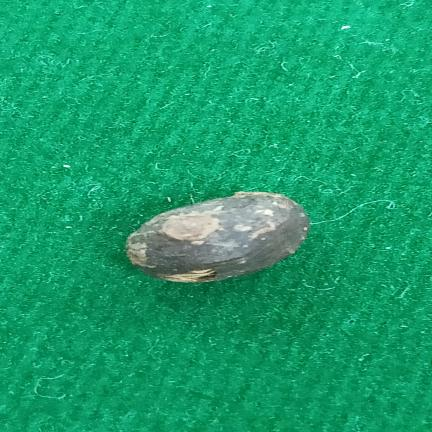partial-black: (126, 192, 310, 283)
